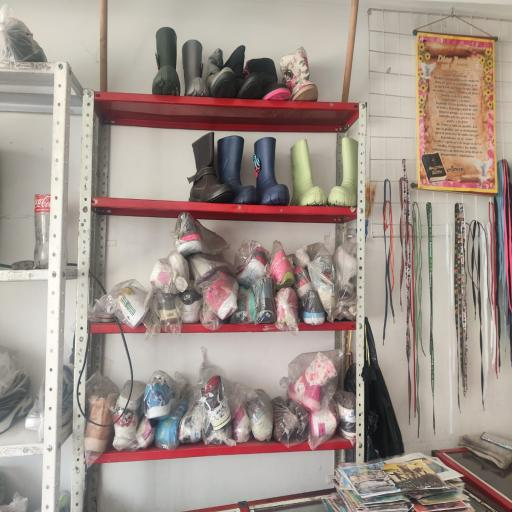boots: (188, 132, 234, 203), (217, 136, 259, 204), (253, 137, 290, 205), (290, 139, 326, 206), (327, 137, 358, 207), (225, 46, 263, 100), (280, 47, 318, 101), (244, 58, 291, 100), (152, 27, 180, 95), (205, 48, 237, 98), (182, 40, 209, 96)
